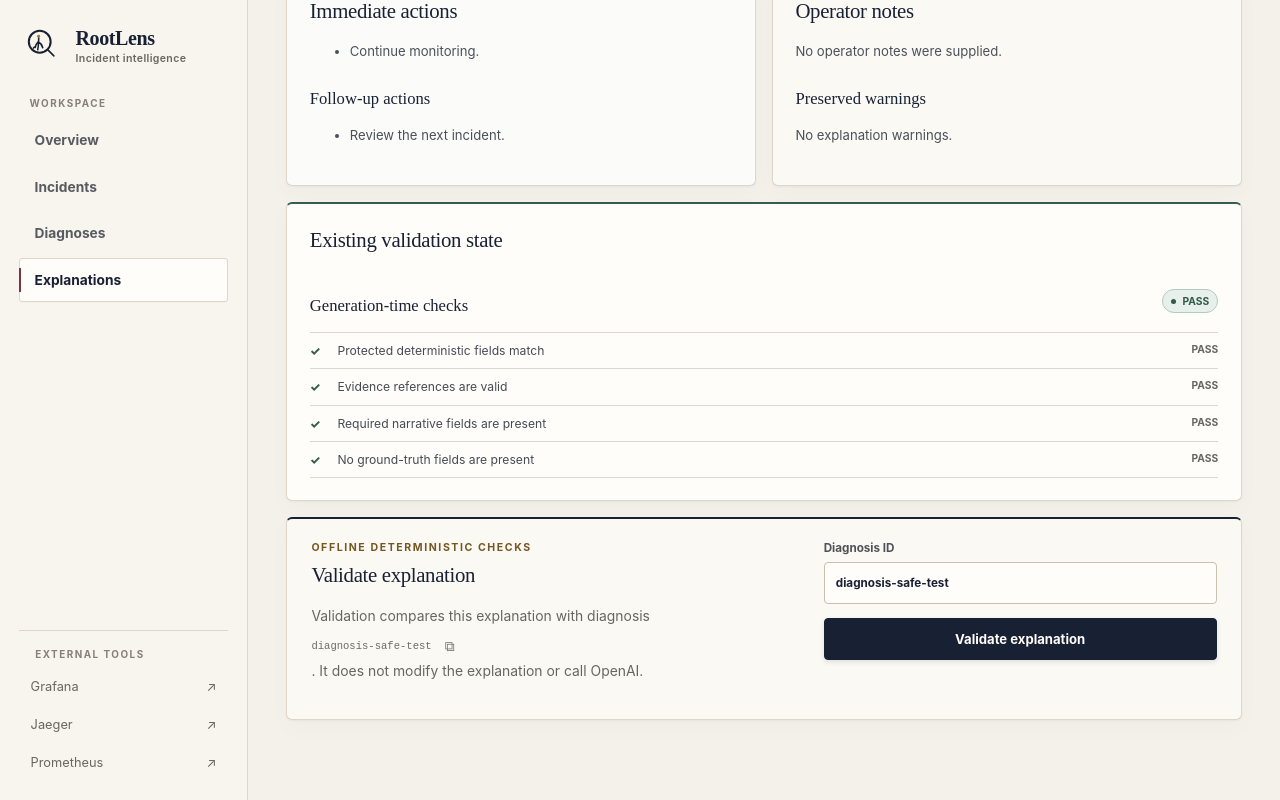
Test: diagnoses and explanations › renders validation false state
The image size is (1280, 800).
(page scrolled)
Step 1. Click the button "Validate explanation" → (1020, 639), box [824,618,1217,660]
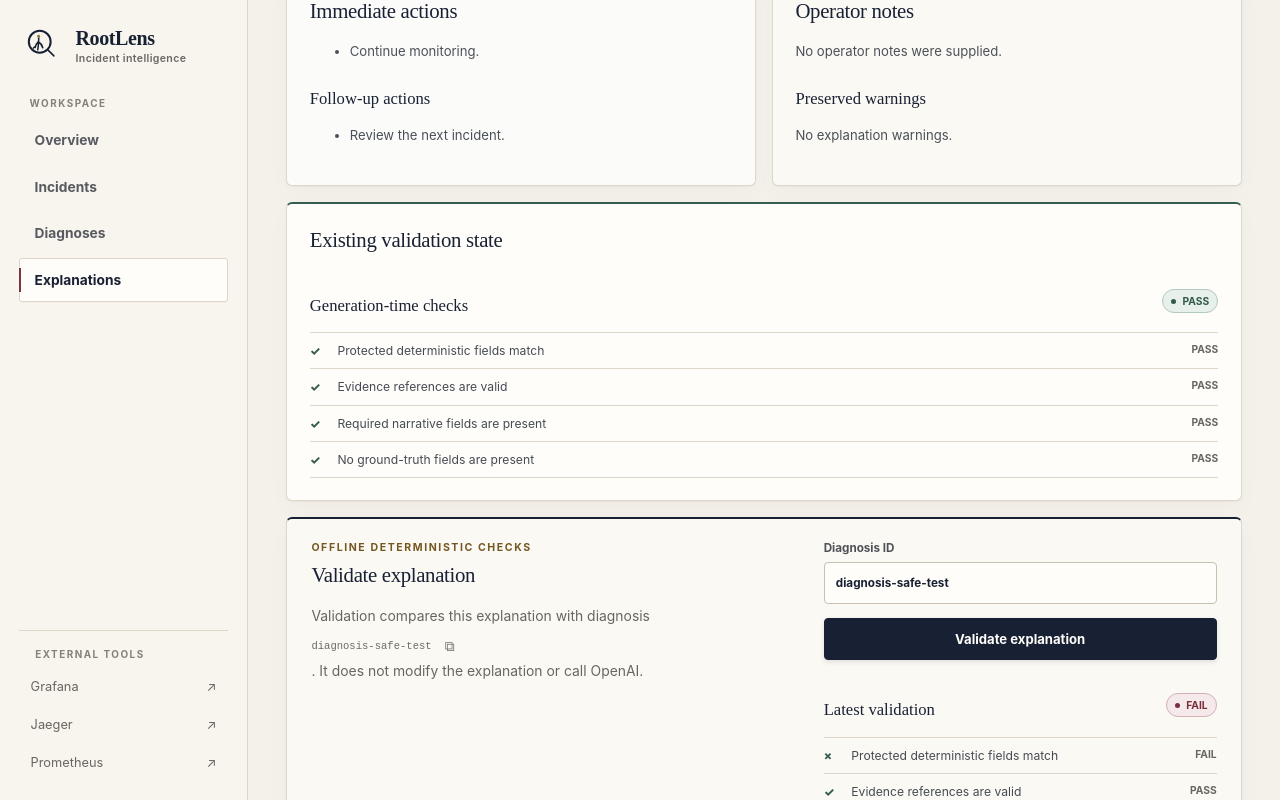
Result: the text "FAIL" is shown at [1166,693,1217,717]
